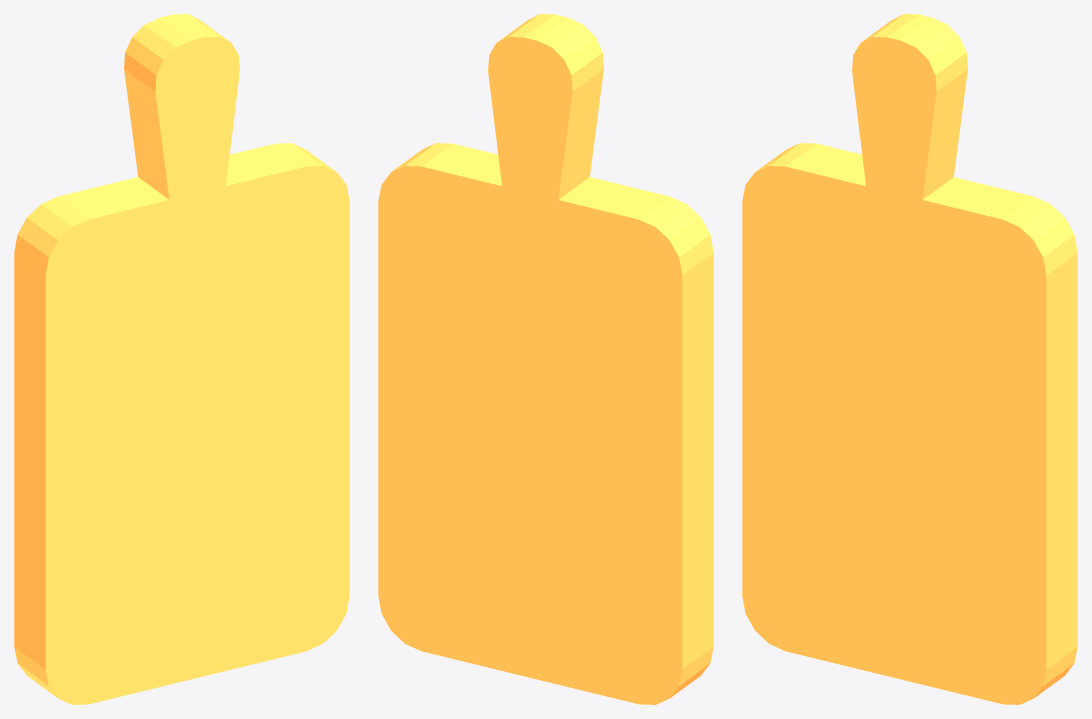
The model's file is KesmeTahtası.fbx.
3 views of the same model, side by side, from view 1: azimuth 30°, elevation 25°; view 2: azimuth 150°, elevation 25°; view 3: azimuth 330°, elevation 25° (orthographic).
Parts seen in each view (by area): view 1: Kesme Tahtasi; view 2: Kesme Tahtasi; view 3: Kesme Tahtasi.
Part boxes in pixels (x1,y1,x2,y2): Kesme Tahtasi: [14, 14, 349, 704]; Kesme Tahtasi: [378, 14, 713, 704]; Kesme Tahtasi: [742, 14, 1077, 704].
Bounding box in the file's own units: 200 × 401 × 35.66.
